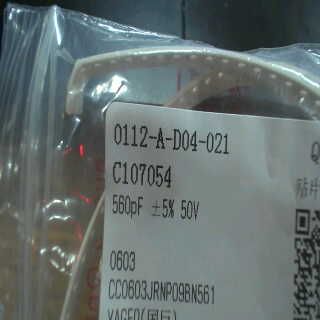560pF: (110, 190, 147, 224)
